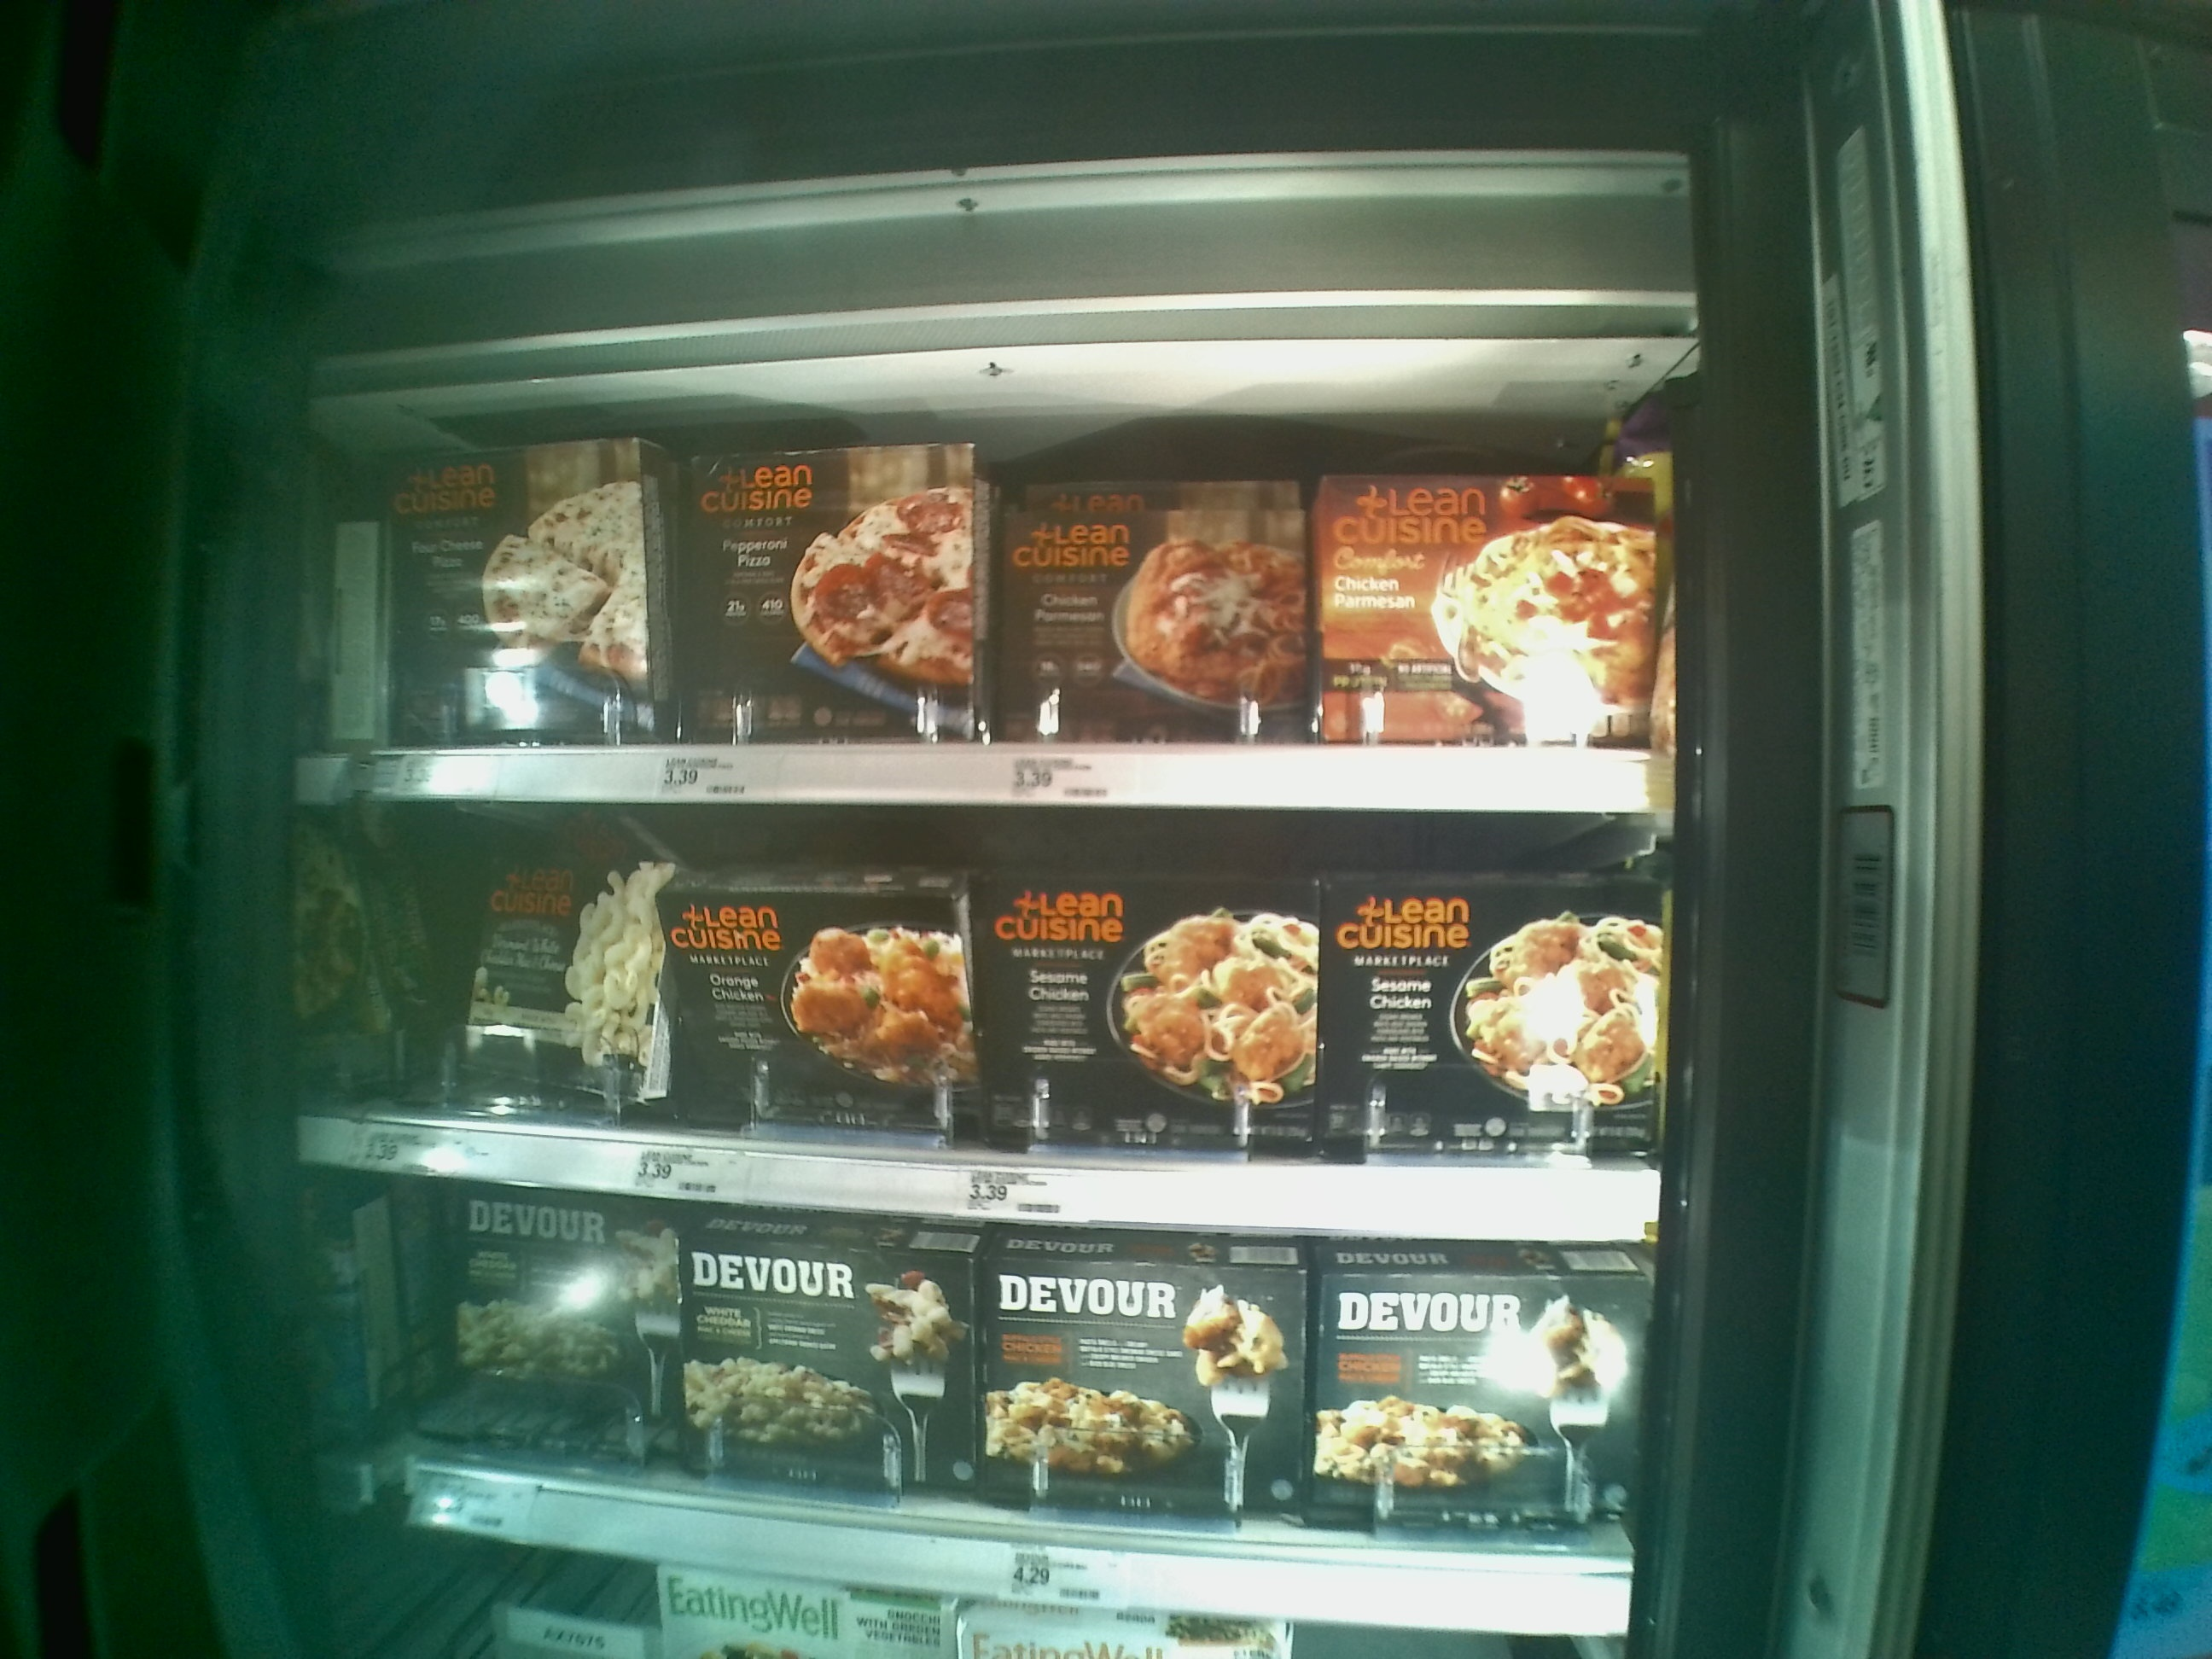shelf: (286, 803, 1663, 1248), (308, 361, 1656, 812)
